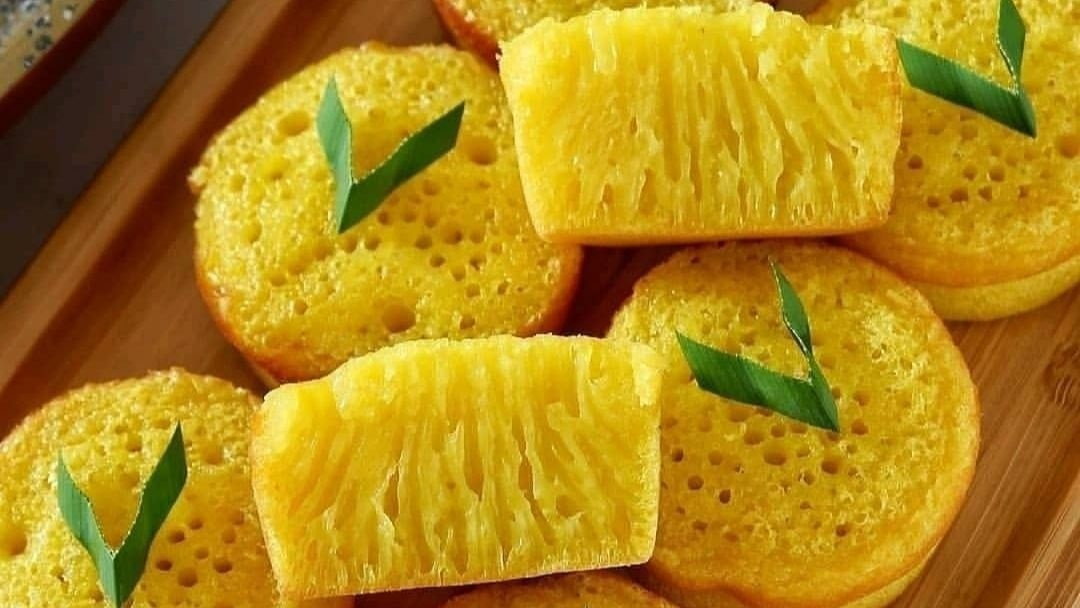bika_ambon: (224, 316, 667, 600)
